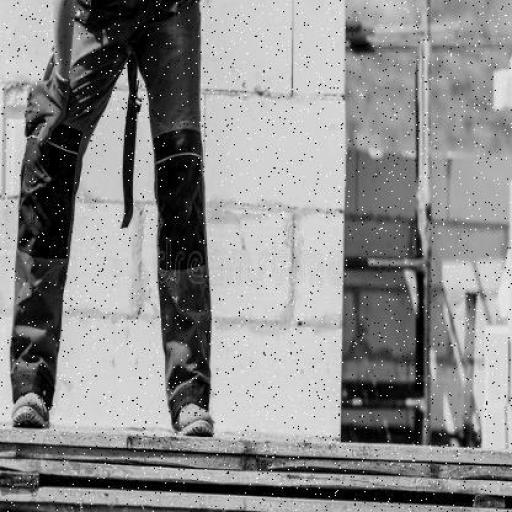safety_shoe: (168, 398, 216, 440), (11, 390, 51, 432)
